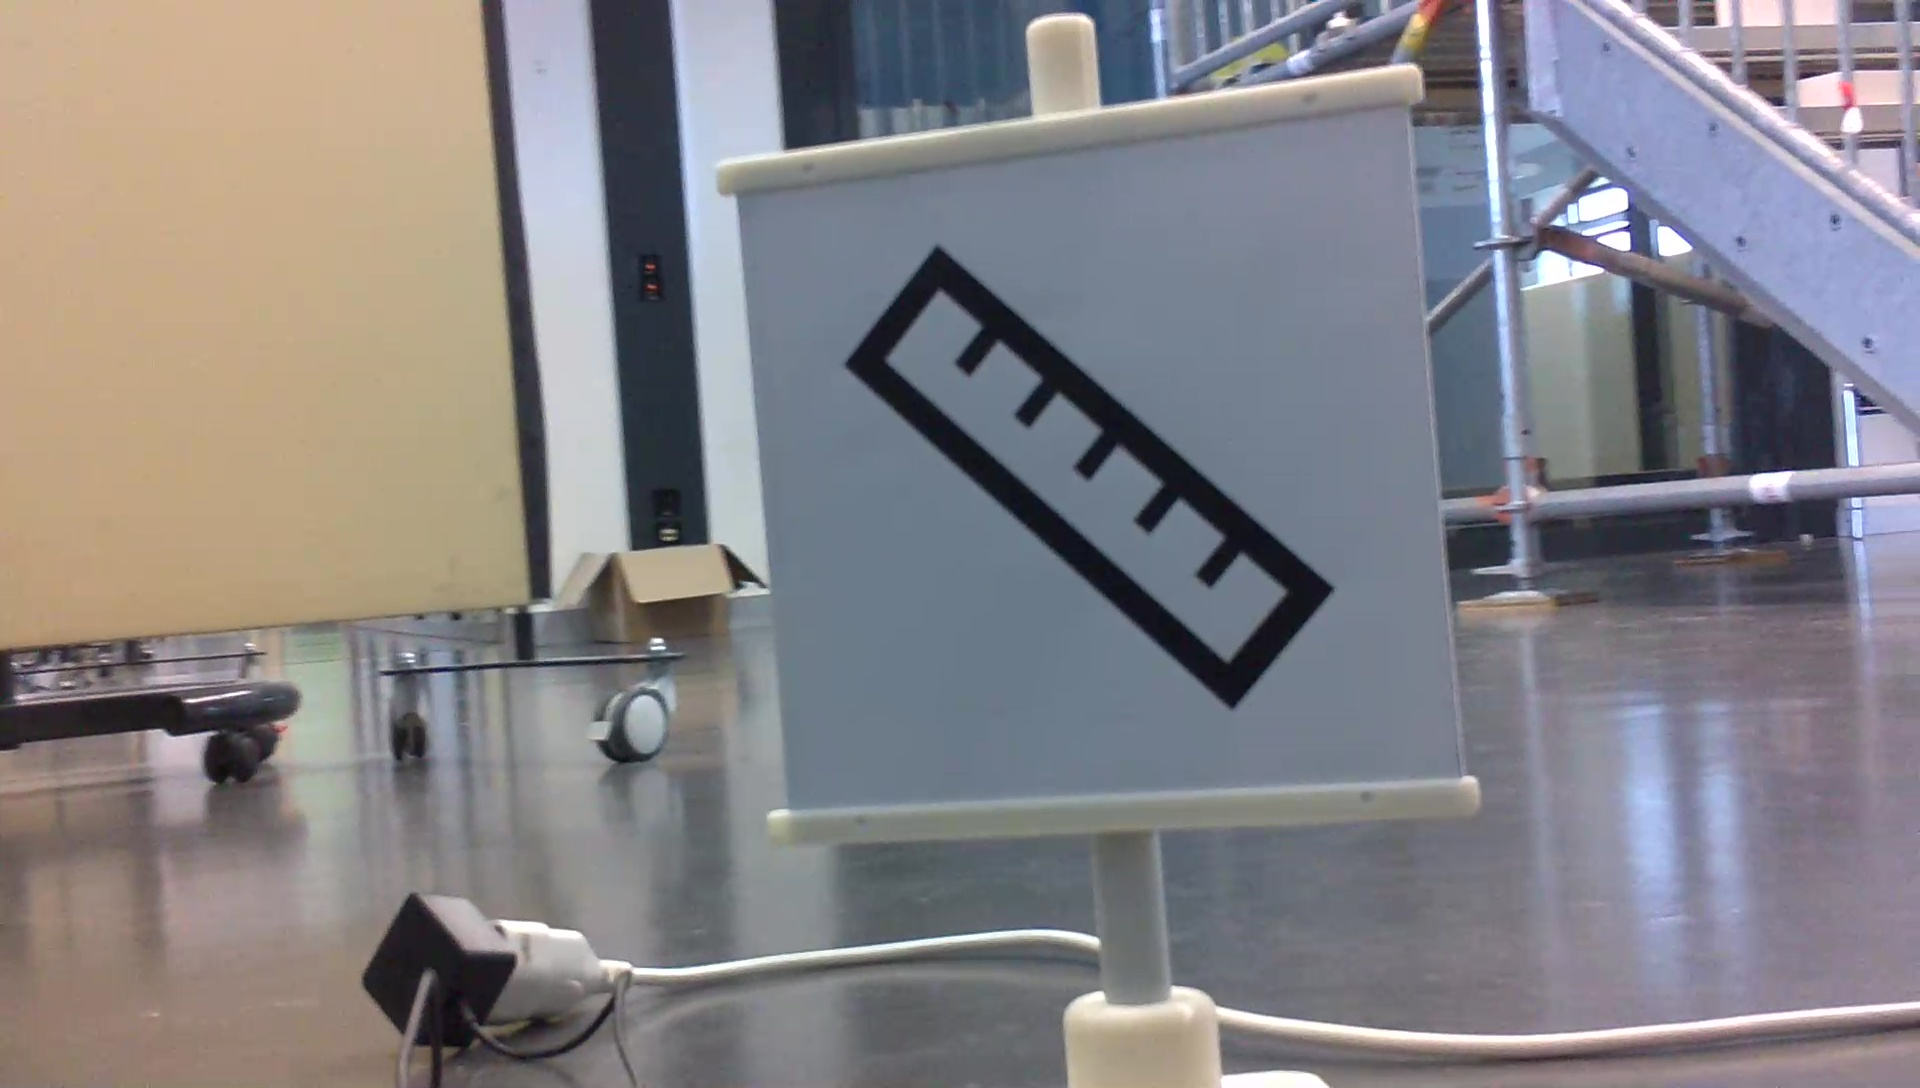ruler: (839, 222, 1342, 715)
